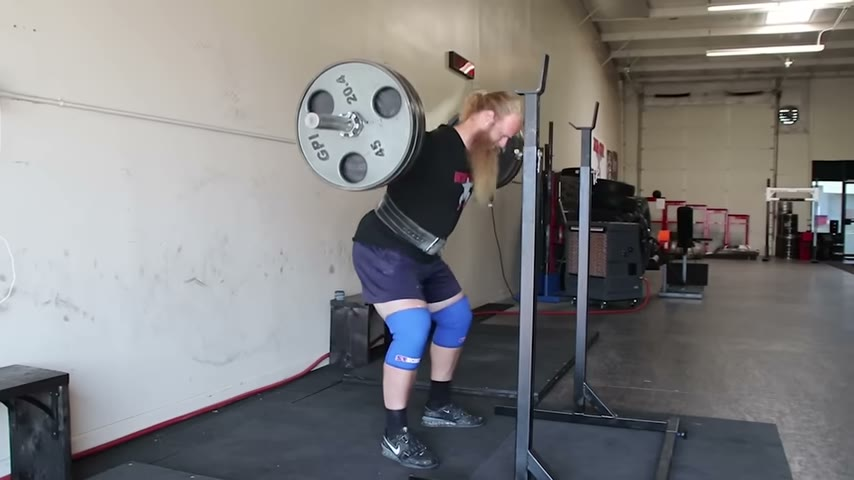barbell_plate_side: (289, 59, 365, 195)
